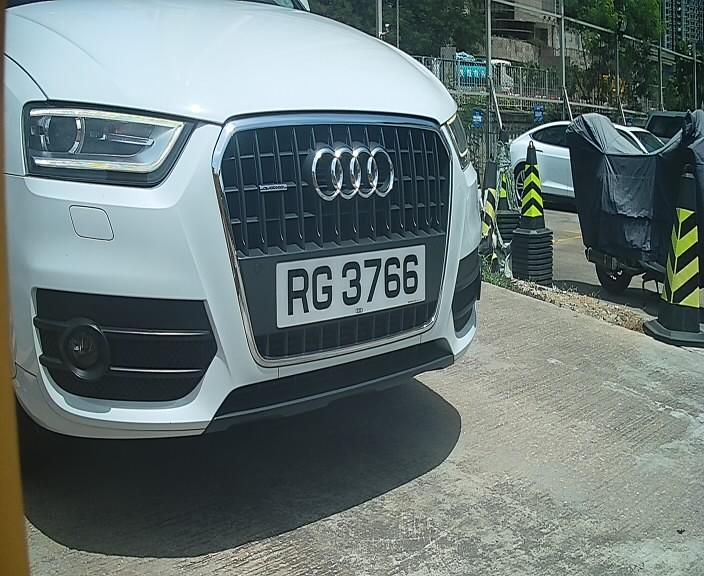License Plate: (280, 232, 428, 335)
